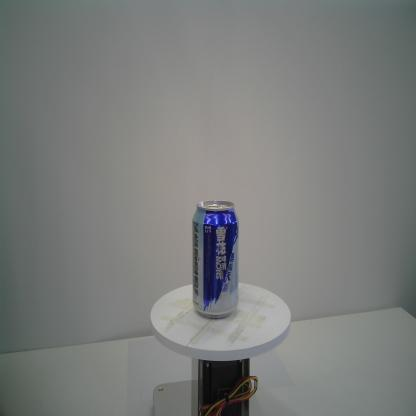Alcohol: (189, 198, 241, 322)
